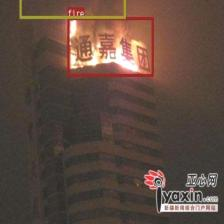fire: (67, 17, 153, 76)
smoke: (19, 0, 125, 18)
